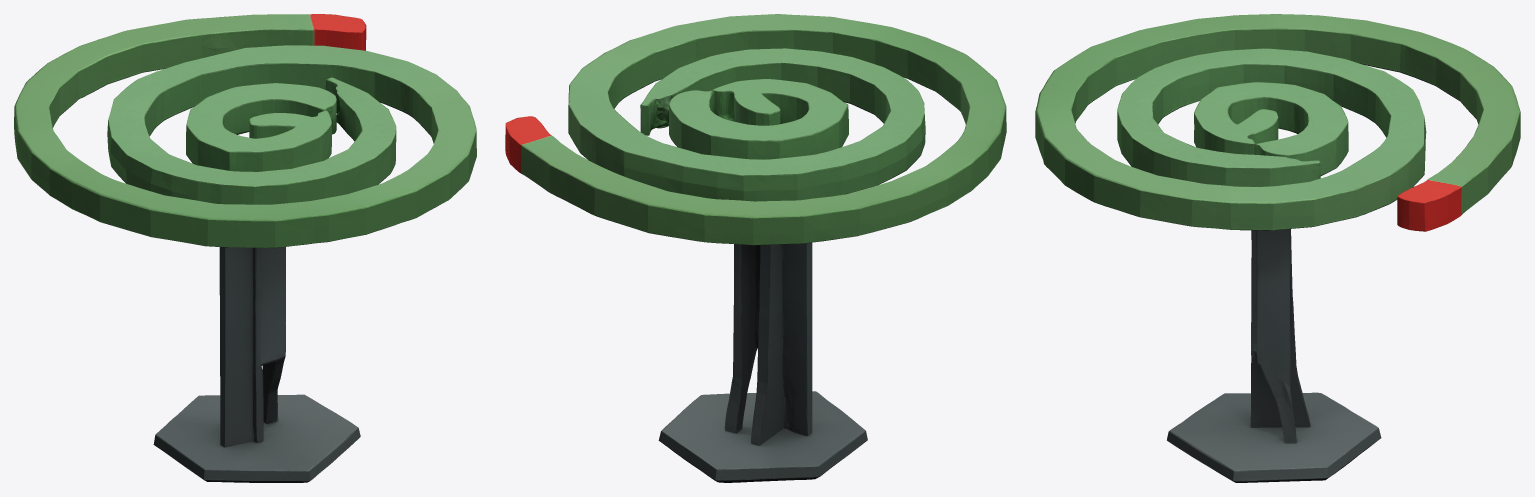
File: mosquito.fbx
3 views of the same model, side by side, from view 1: azimuth 30°, elevation 25°; view 2: azimuth 150°, elevation 25°; view 3: azimuth 270°, elevation 25° (orthographic).
Visible parts, largest first — view 1: world; view 2: world; view 3: world.
Boxes of the visible parts, x1,y1,x2,y2 form: world: [14, 14, 476, 482]; world: [505, 14, 1006, 482]; world: [1035, 14, 1520, 482].
Bounding box in the file's own units: 92.63 × 75.26 × 100.
